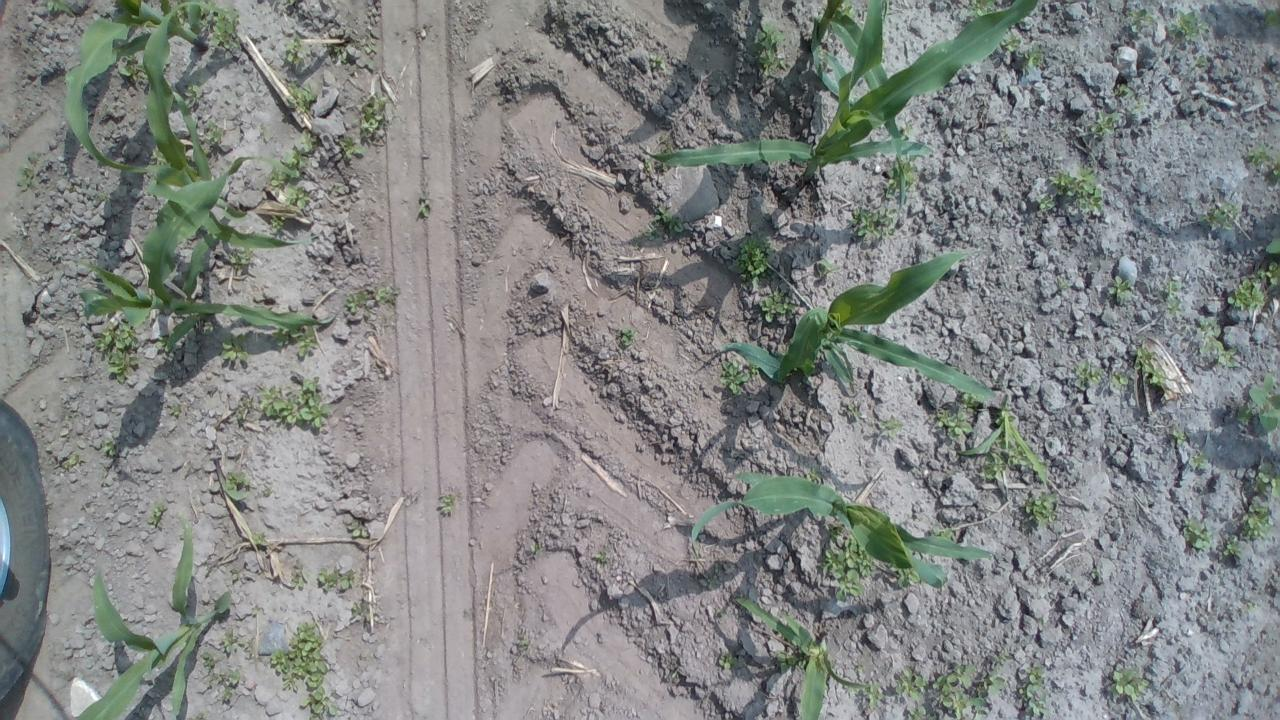Maize: (634, 2, 1046, 190), (73, 154, 340, 346), (691, 247, 998, 407), (131, 84, 322, 296), (688, 470, 996, 590), (72, 504, 233, 720), (64, 0, 210, 177), (138, 0, 248, 223), (734, 596, 880, 720)
Weeds: (268, 618, 326, 715), (247, 378, 328, 432), (928, 659, 994, 720), (1226, 238, 1278, 311), (266, 130, 312, 208), (98, 324, 142, 388), (202, 632, 238, 708), (1040, 170, 1099, 214), (824, 534, 870, 590), (1238, 378, 1278, 437), (200, 1, 237, 55), (728, 236, 772, 278), (1198, 320, 1238, 366), (1017, 661, 1048, 720), (755, 19, 786, 77), (892, 673, 929, 720), (847, 207, 897, 238), (1130, 346, 1166, 388), (1244, 144, 1280, 185), (1202, 198, 1240, 236), (1110, 668, 1150, 704), (312, 564, 358, 595), (1026, 488, 1064, 524), (720, 360, 756, 396), (358, 94, 386, 140), (646, 207, 681, 243), (1240, 502, 1274, 538), (934, 407, 971, 436), (1120, 8, 1158, 36), (888, 161, 918, 196), (1180, 516, 1209, 552), (859, 680, 883, 718), (1072, 364, 1103, 392), (758, 290, 789, 318), (1256, 460, 1280, 496), (1170, 10, 1202, 37), (888, 566, 924, 590), (292, 332, 318, 364), (220, 342, 250, 369), (1093, 112, 1121, 140), (220, 472, 244, 504), (1166, 280, 1184, 320), (1026, 38, 1046, 70), (228, 247, 255, 270), (337, 140, 365, 162), (774, 651, 796, 678), (970, 0, 1001, 19), (284, 41, 304, 70), (344, 292, 366, 318), (1107, 278, 1131, 300), (47, 2, 76, 20), (928, 524, 954, 544), (343, 522, 370, 541), (1259, 5, 1280, 29), (416, 196, 433, 224), (876, 419, 900, 437), (1220, 538, 1242, 557), (618, 326, 636, 348), (1001, 34, 1022, 52), (148, 507, 164, 530), (374, 289, 398, 304), (1188, 452, 1206, 472), (814, 260, 836, 276), (438, 494, 454, 515), (1110, 86, 1134, 100), (716, 654, 734, 671), (266, 218, 280, 238), (1170, 428, 1188, 442), (1117, 370, 1129, 386)
